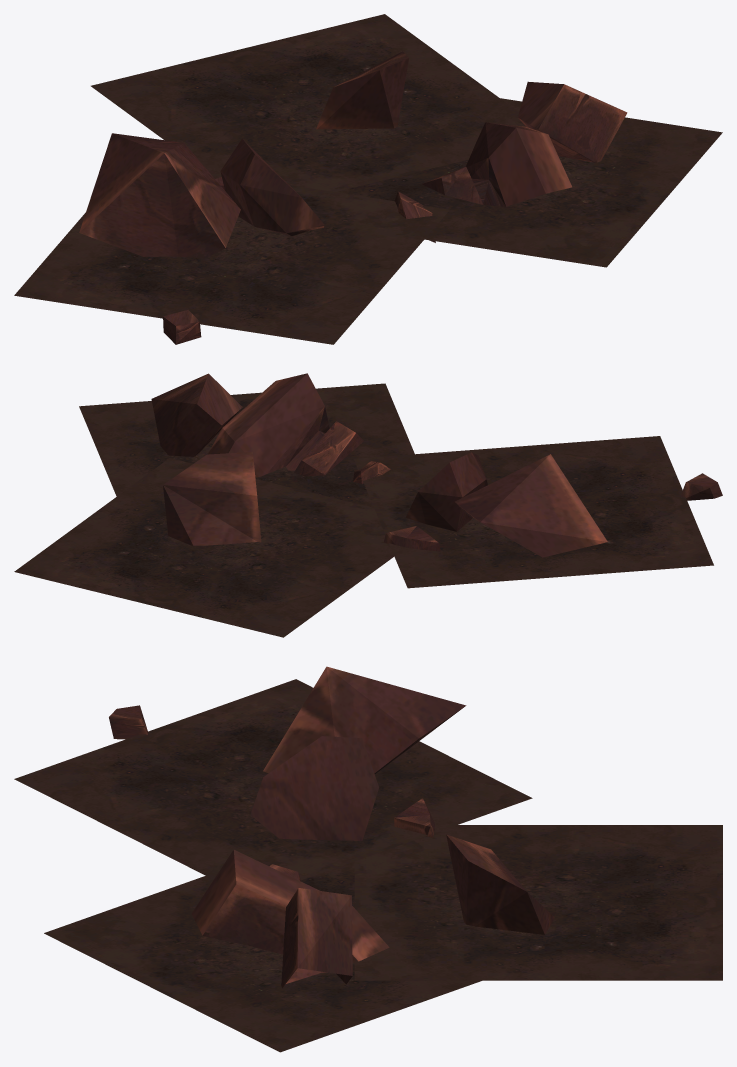
Rendered from lava_rubble_03.fbx.
The picture shows the model from 3 angles, top to bottom: view 1: azimuth 30°, elevation 25°; view 2: azimuth 150°, elevation 25°; view 3: azimuth 270°, elevation 25°; orthographic projection. The views are drawn at different scales.
Parts seen in each view (by area): view 1: obj1.025; view 2: obj1.025; view 3: obj1.025.
Boxes of the visible parts, left/top/right/bottom form: obj1.025: left=14, top=14, right=722, bottom=344; obj1.025: left=14, top=373, right=722, bottom=637; obj1.025: left=14, top=666, right=722, bottom=1052.
Bounding box in the file's own units: 9.53 × 1.54 × 7.7.
